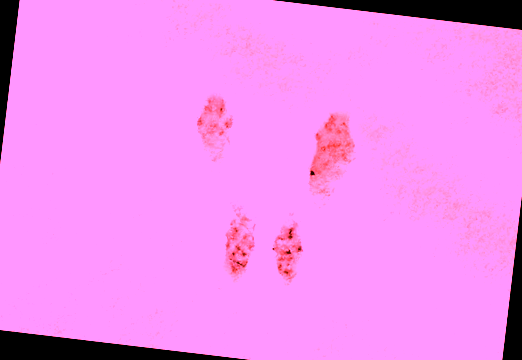ecureuil: (160, 91, 223, 207), (276, 83, 339, 194), (255, 196, 301, 289), (200, 207, 245, 285)
